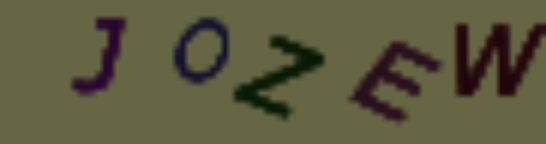E: (345, 36, 447, 126)
J: (66, 12, 130, 99)
O: (172, 15, 236, 86)
W: (448, 18, 546, 99)
Z: (229, 32, 328, 123)
